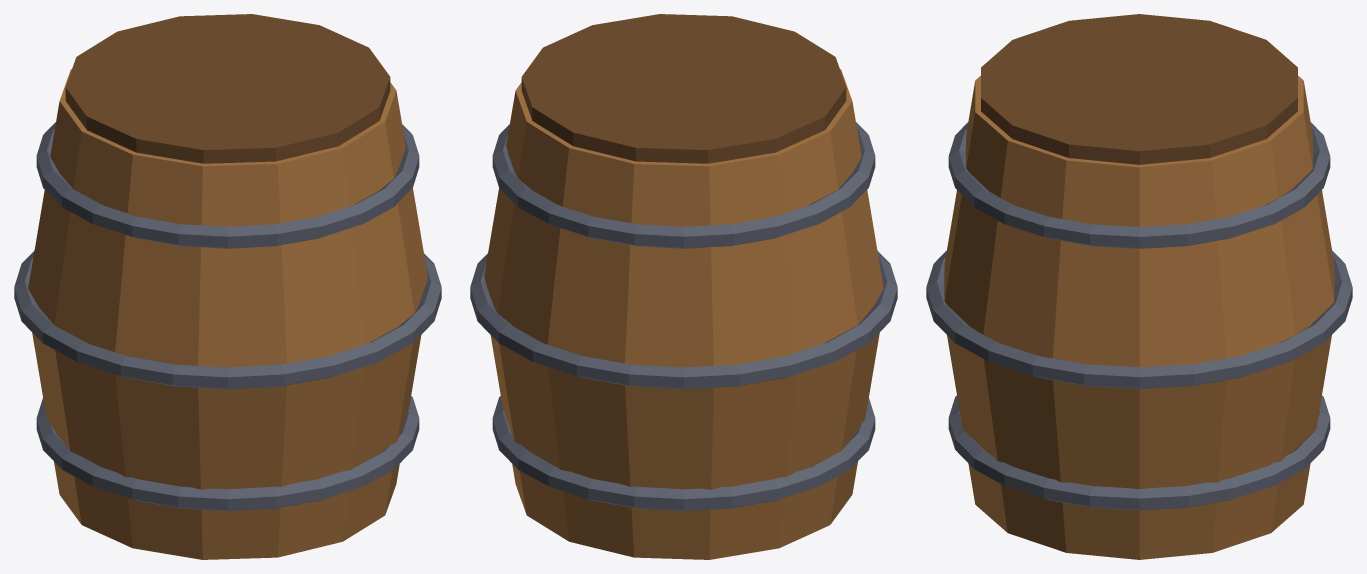
Rendered from barrel.glb.
3 renders of one model, left to right at view 1: azimuth 30°, elevation 25°; view 2: azimuth 150°, elevation 25°; view 3: azimuth 270°, elevation 25°, orthographic.
Parts seen in each view (by area): view 1: barrel; view 2: barrel; view 3: barrel.
Boxes of the visible parts, x1,y1,x2,y2 form: barrel: (14, 14, 441, 559); barrel: (470, 14, 897, 559); barrel: (926, 14, 1352, 559).
Bounding box in the file's own units: 0.7086 × 0.745 × 0.7086.
